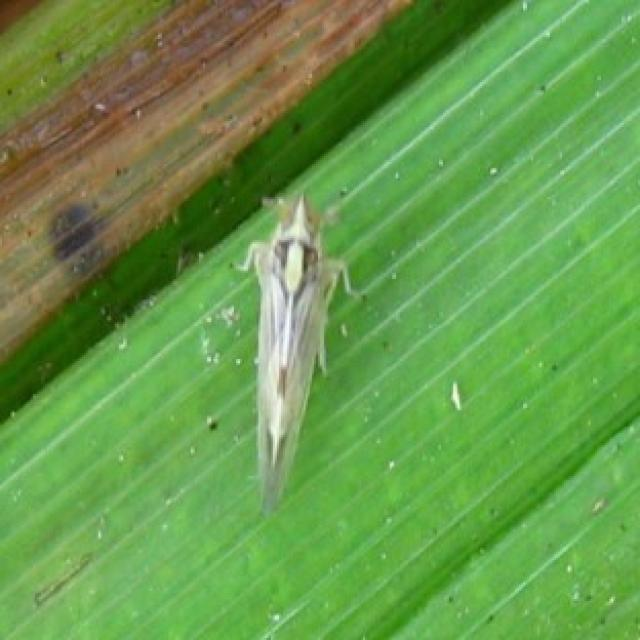brown plant hopper: (242, 195, 345, 511)
